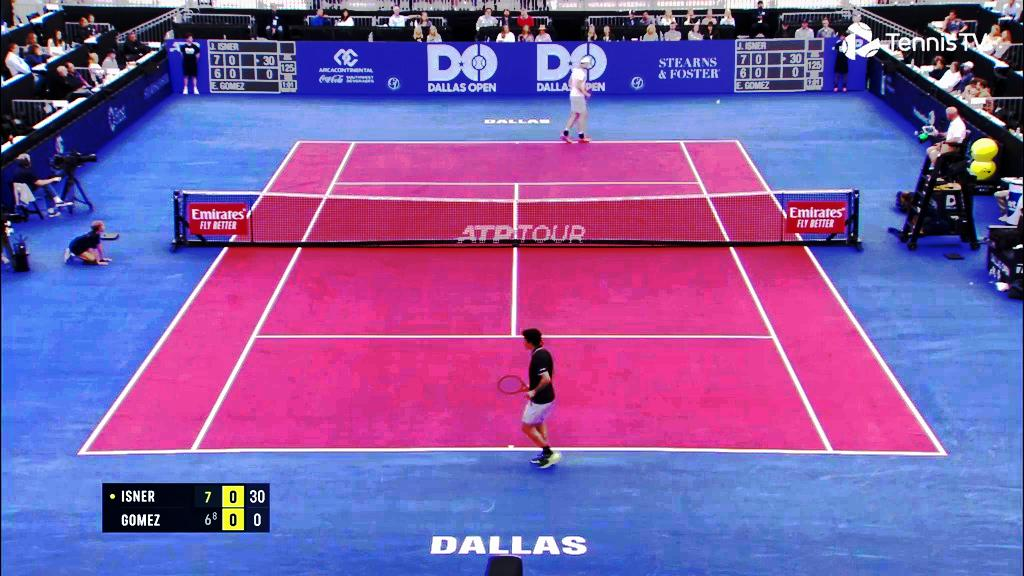tennis-court: (77, 140, 949, 455)
